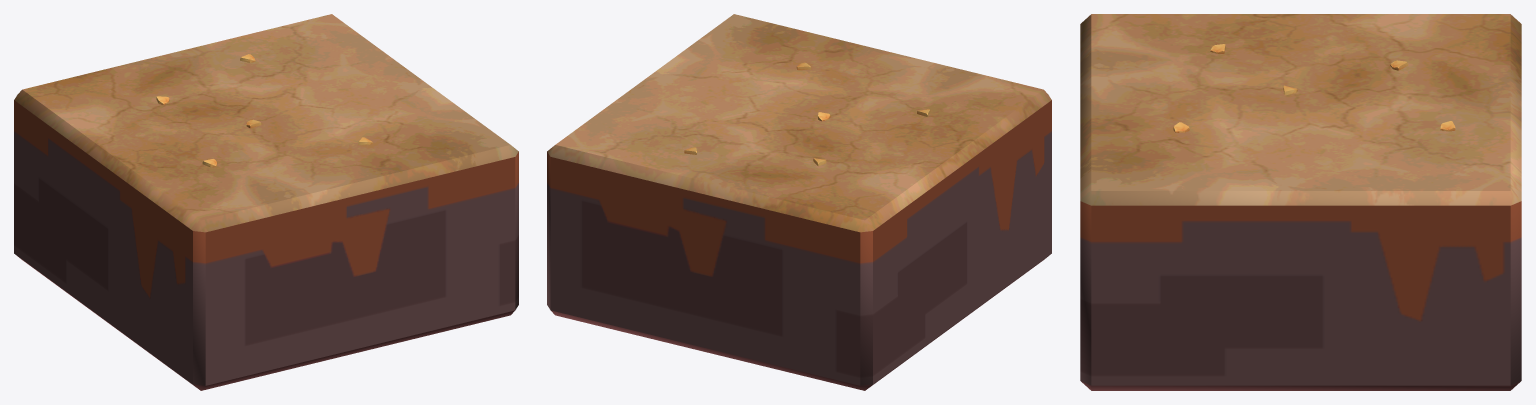
File: tiledesert001.glb
3 renders of one model, left to right at view 1: azimuth 30°, elevation 25°; view 2: azimuth 150°, elevation 25°; view 3: azimuth 270°, elevation 25°, orthographic. The views are drawn at different scales.
Visible parts, largest first — view 1: tiledesert001; view 2: tiledesert001; view 3: tiledesert001.
Boxes of the visible parts, bbox=[...] form: tiledesert001: bbox=[14, 14, 518, 390]; tiledesert001: bbox=[547, 14, 1051, 390]; tiledesert001: bbox=[1080, 14, 1521, 390].
Bounding box in the file's own units: 1 × 0.5095 × 1.
Materials: 2 (2 with a texture image).
